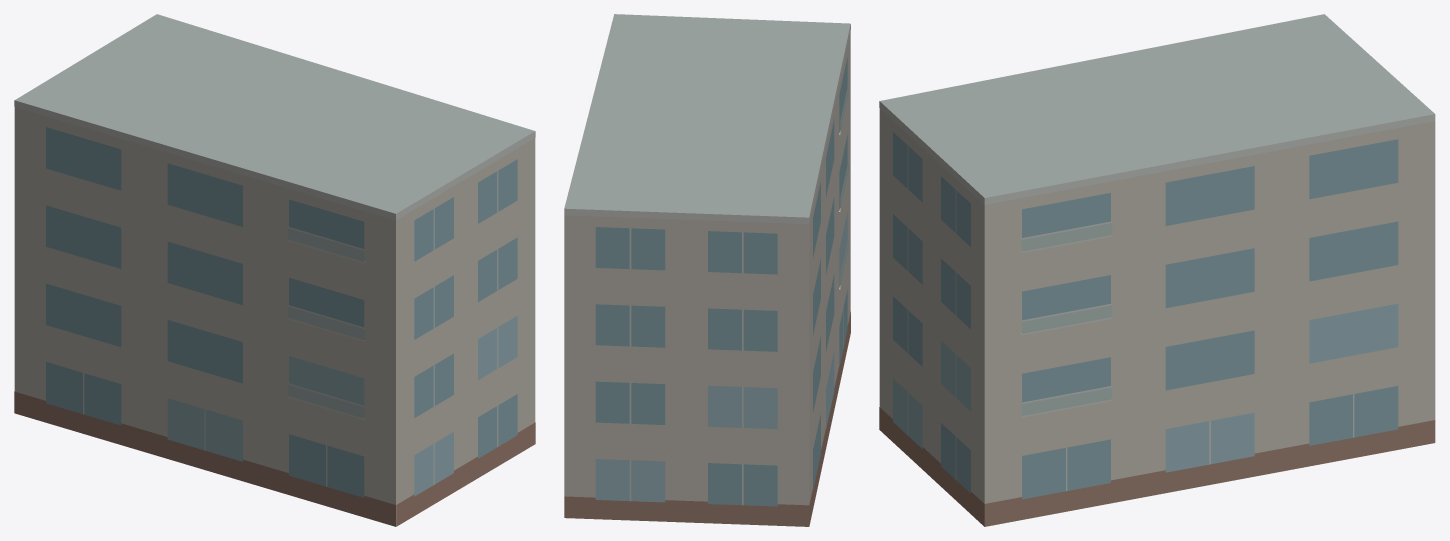
Rendered from survey-upis-32731784.glb.
3 views of the same model, side by side, from view 1: azimuth 30°, elevation 25°; view 2: azimuth 150°, elevation 25°; view 3: azimuth 270°, elevation 25° (orthographic). The views are drawn at different scales.
Visible parts, largest first — view 1: survey-upis-32731784.tmp; view 2: survey-upis-32731784.tmp; view 3: survey-upis-32731784.tmp.
Boxes of the visible parts, x1=… form: survey-upis-32731784.tmp: x1=14, y1=14, x2=535, y2=526; survey-upis-32731784.tmp: x1=564, y1=14, x2=850, y2=526; survey-upis-32731784.tmp: x1=879, y1=14, x2=1435, y2=526.
Bounding box in the file's own units: 14.06 × 11.7 × 17.93.
